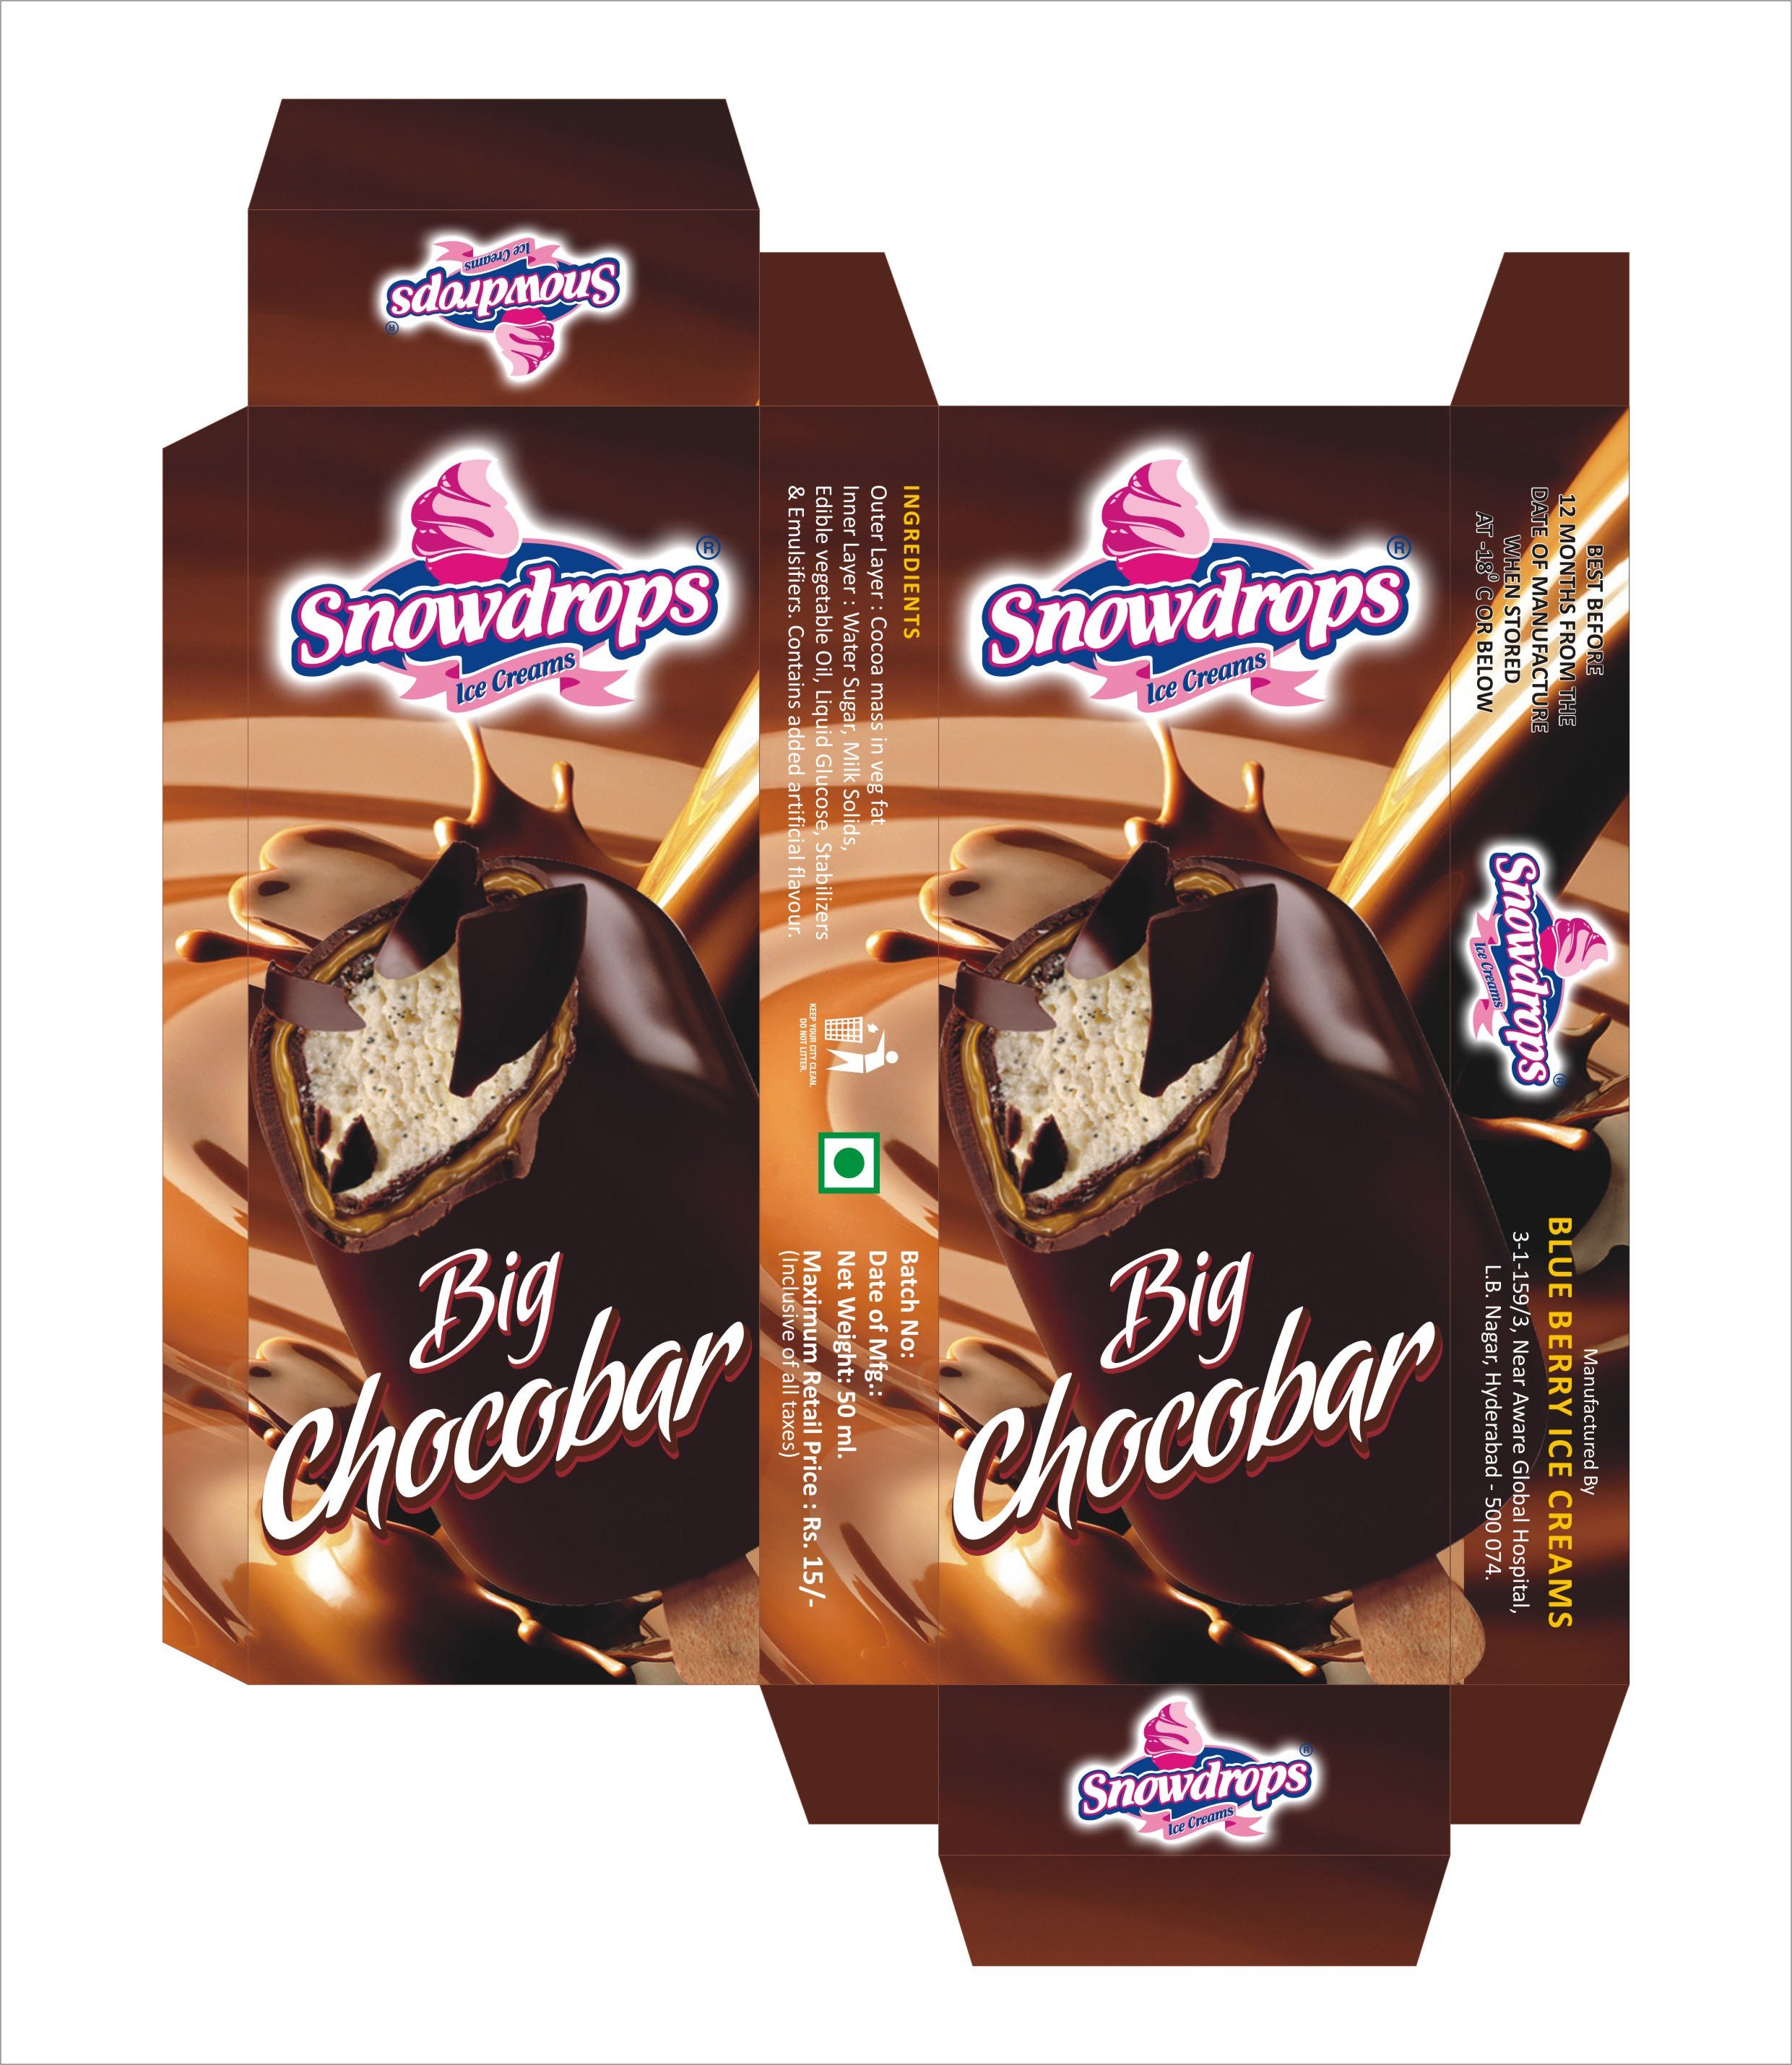VEG: (814, 1133, 879, 1199)
